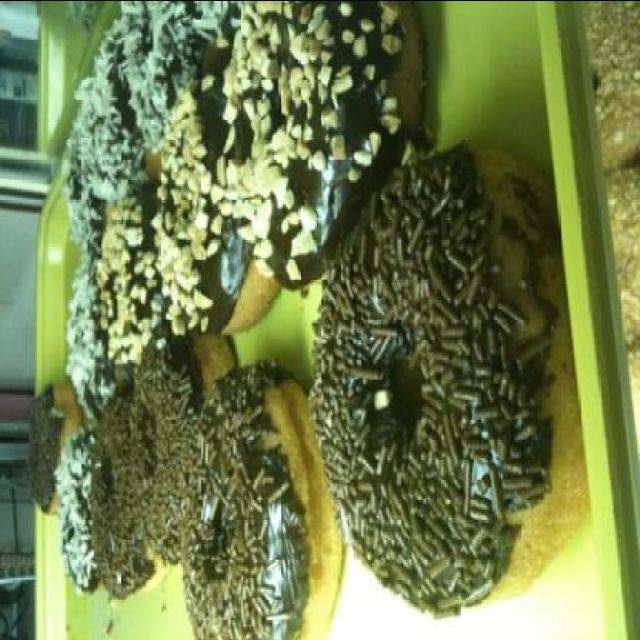Donuts: (22, 1, 576, 637)
